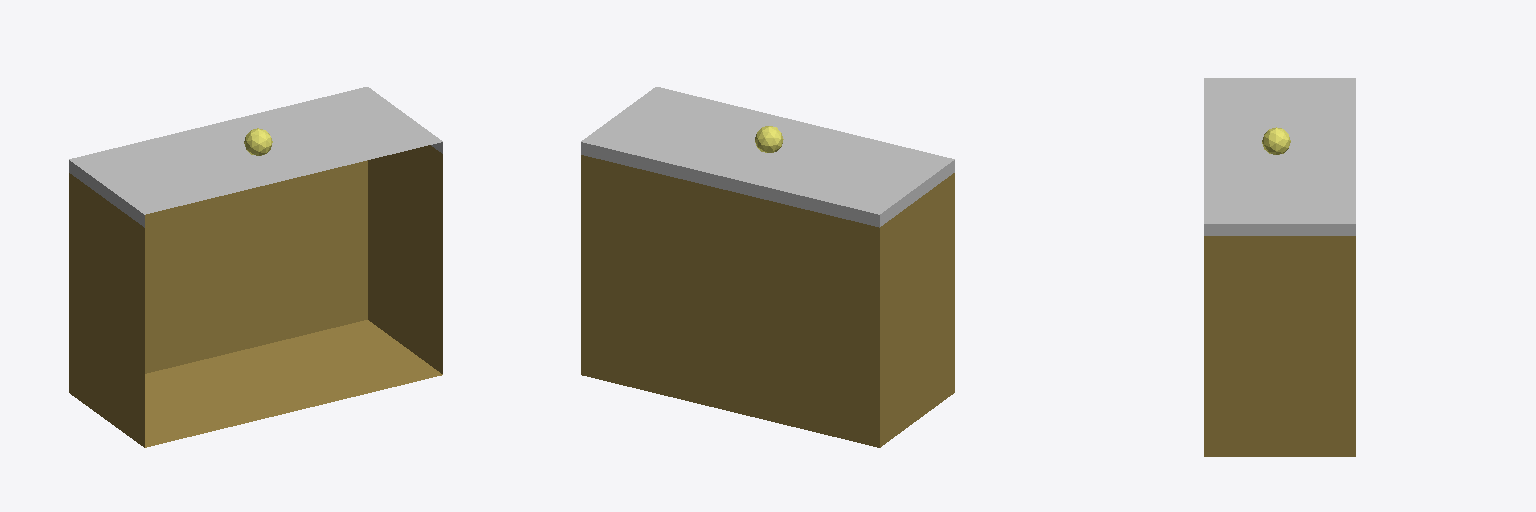
3 renders of one model, left to right at view 1: azimuth 30°, elevation 25°; view 2: azimuth 150°, elevation 25°; view 3: azimuth 270°, elevation 25°, orthographic.
Visible parts, largest first — view 1: Esfera_geodésica.001_Material.004, Esfera_geodésica.001_Material.003, Esfera_geodésica.001_Material.005; view 2: Esfera_geodésica.001_Material.004, Esfera_geodésica.001_Material.003, Esfera_geodésica.001_Material.005; view 3: Esfera_geodésica.001_Material.004, Esfera_geodésica.001_Material.003, Esfera_geodésica.001_Material.005.
Boxes of the visible parts, x1,y1,x2,y2 form: Esfera_geodésica.001_Material.004: [69, 145, 442, 447]; Esfera_geodésica.001_Material.003: [69, 87, 442, 227]; Esfera_geodésica.001_Material.005: [244, 128, 272, 155]; Esfera_geodésica.001_Material.004: [581, 155, 954, 447]; Esfera_geodésica.001_Material.003: [581, 87, 954, 227]; Esfera_geodésica.001_Material.005: [755, 126, 783, 152]; Esfera_geodésica.001_Material.004: [1204, 236, 1355, 456]; Esfera_geodésica.001_Material.003: [1204, 78, 1355, 235]; Esfera_geodésica.001_Material.005: [1262, 127, 1290, 154].
Size of the model in its own units: 2.38 by 1.94 by 1.04.
Materials: 3 (2 with a texture image).